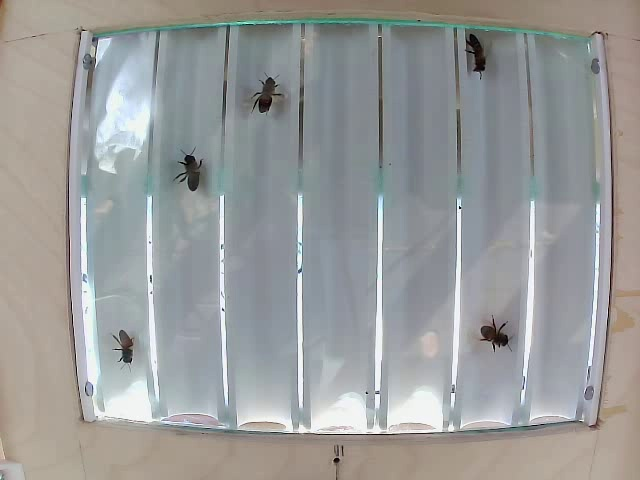bee: (479, 315, 518, 359), (173, 145, 202, 192), (250, 68, 277, 118), (465, 30, 490, 81), (114, 321, 136, 370)
